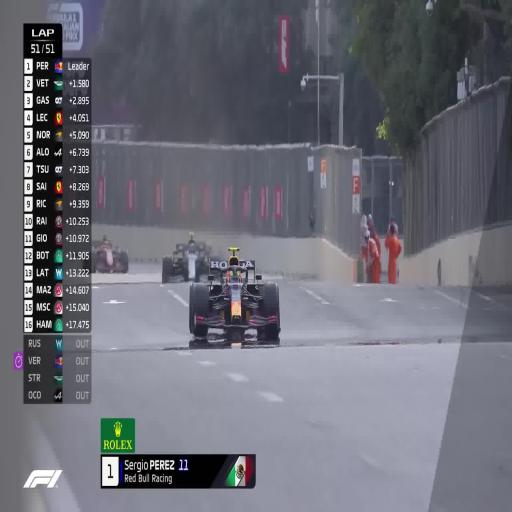f1_car: (189, 247, 280, 340), (162, 233, 210, 283), (83, 237, 129, 273)
